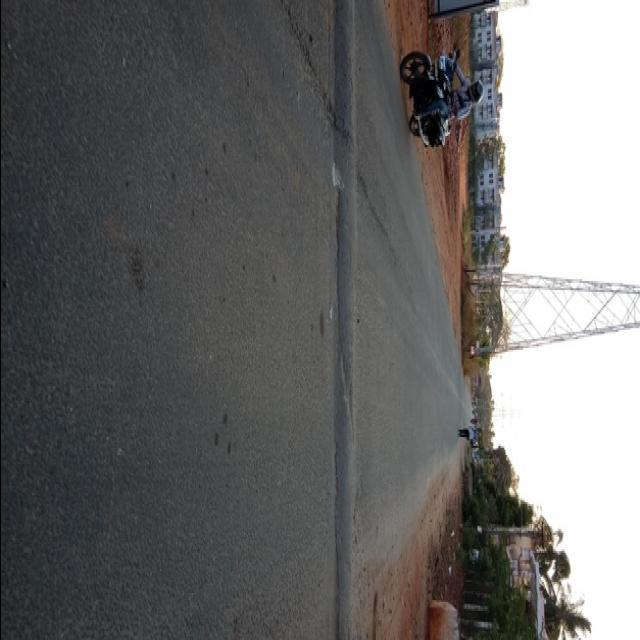speedbreaker: (324, 0, 364, 640)
